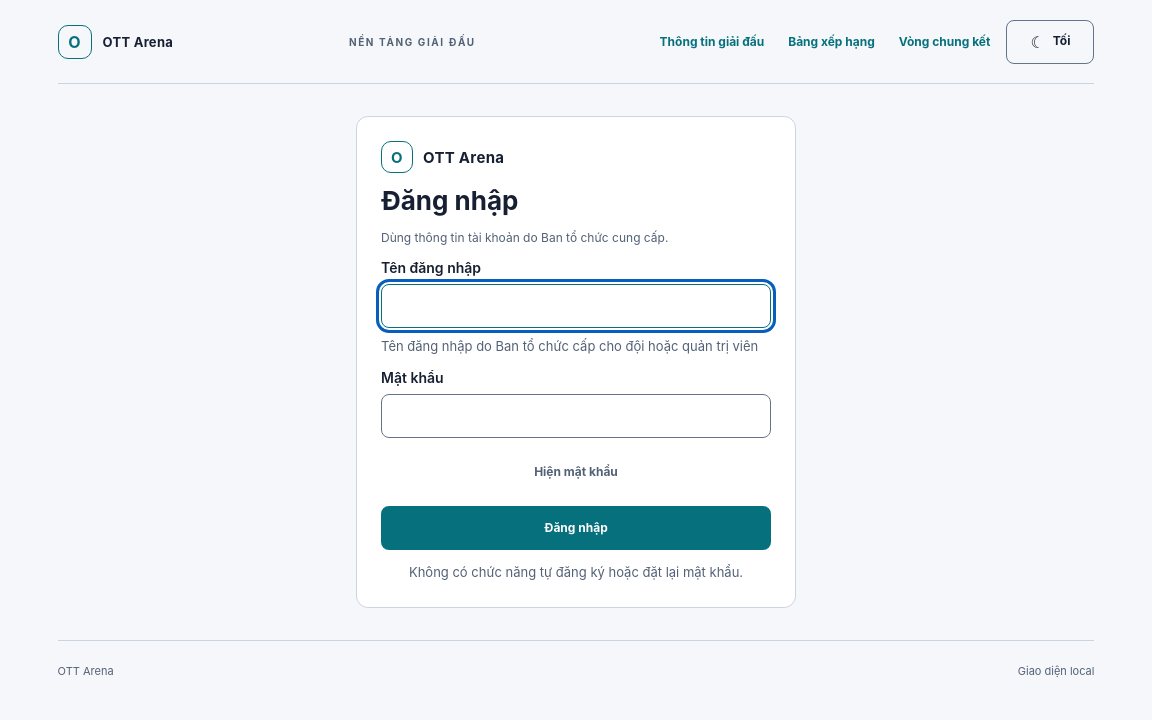
Test: authentication routes › keeps a generic message for invalid credentials and sends cookie credentials
Type "team-user" into the field labelled "Tên đăng nhập" at (576, 306), box [381,284,771,328]
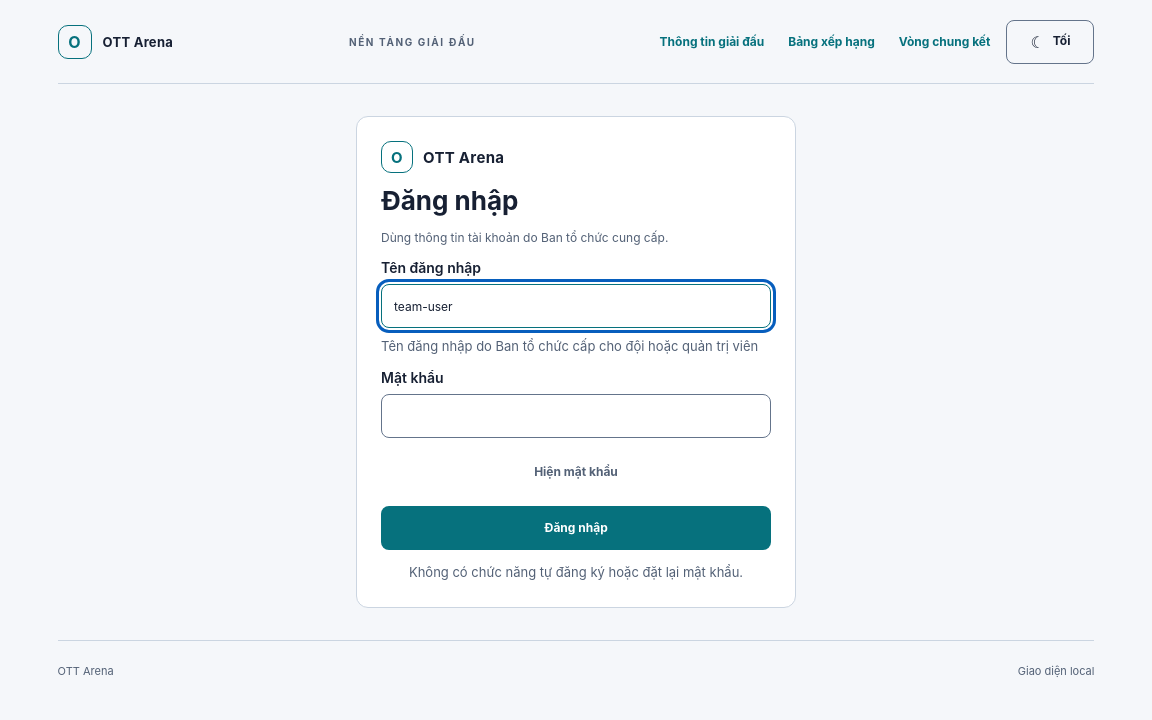
Type "wrong-password" into the password field labelled "Mật khẩu" at (576, 416), box [381,394,771,438]
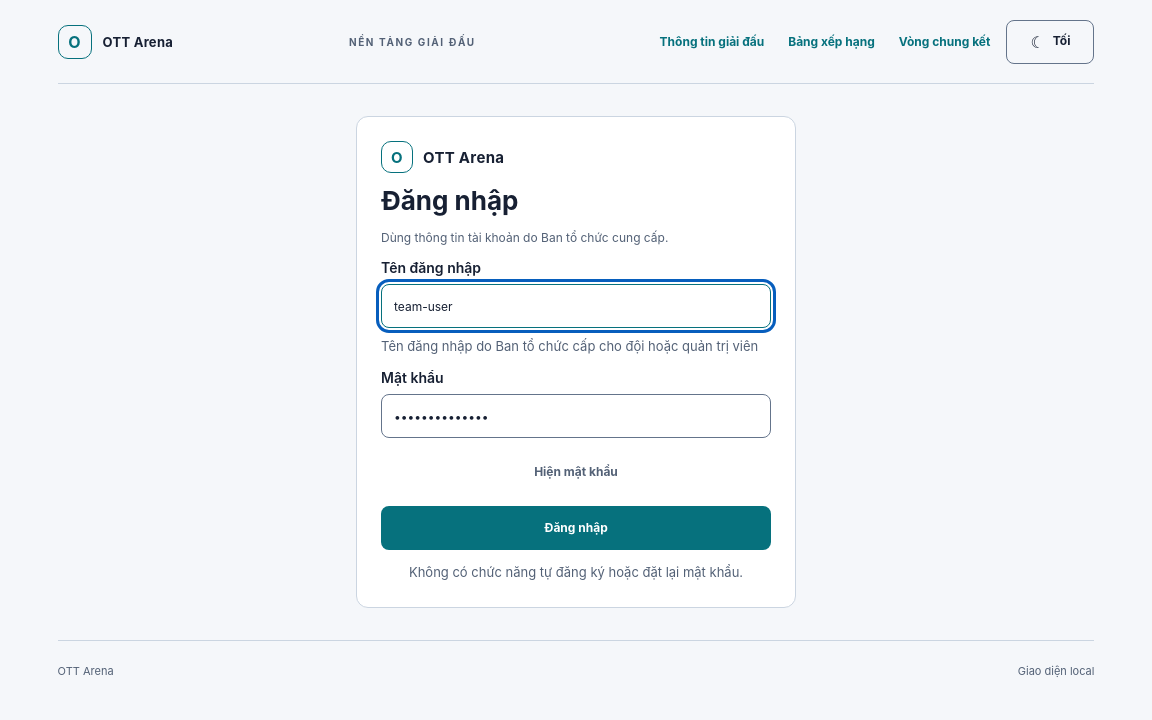
Click the button "Đăng nhập" at (576, 528), box [381,506,771,550]
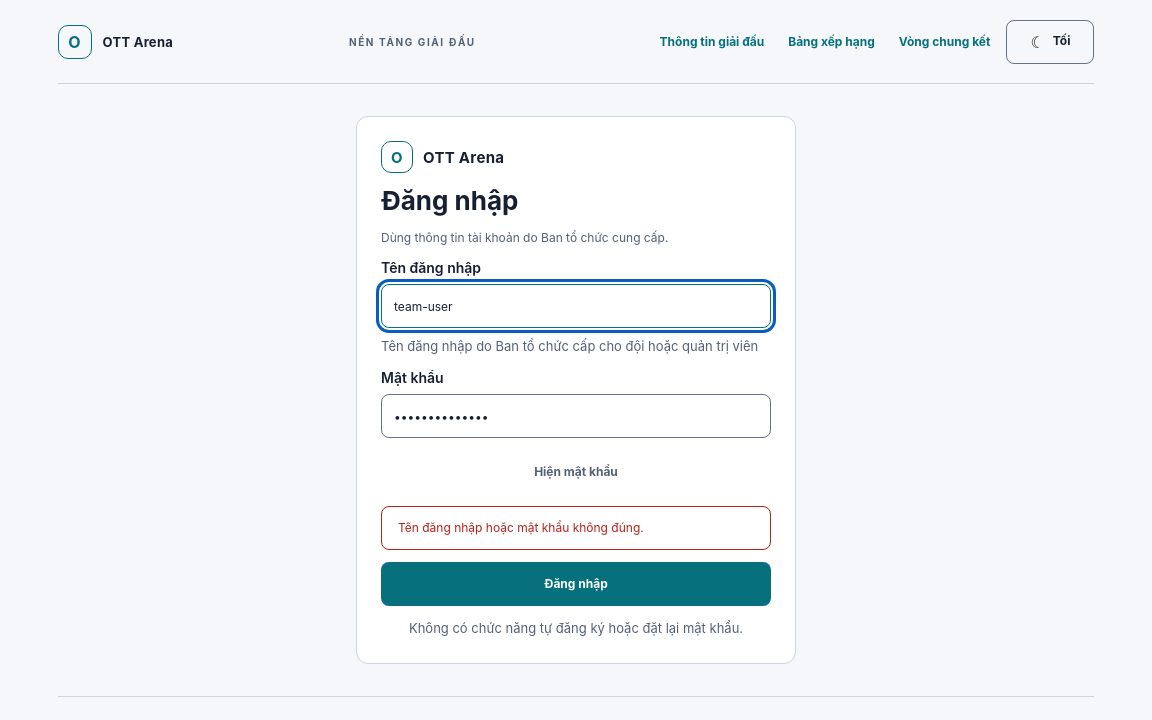
Expected: the message does not show "team-user"
Expected: the message "Tên đăng nhập hoặc mật khẩu không đúng." is shown, [381,506,771,550]
Expected: the message shows "không đúng", [398,520,644,535]
